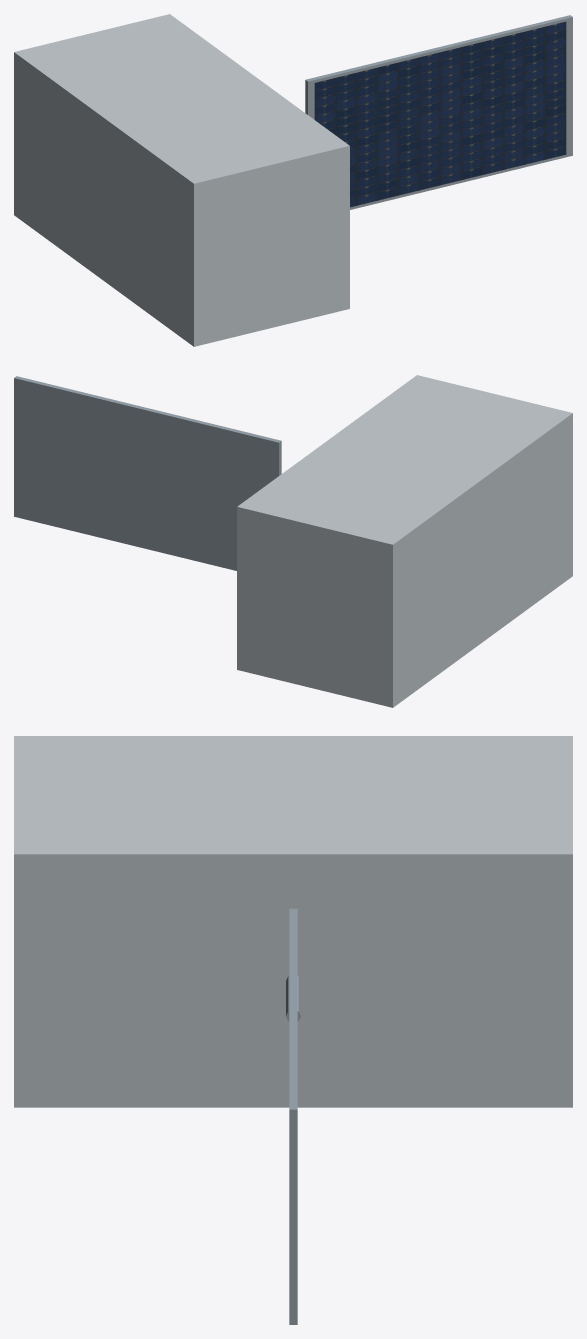
File: ref-sdgsat-49387.glb
3 renders of one model, top to bottom at view 1: azimuth 30°, elevation 25°; view 2: azimuth 150°, elevation 25°; view 3: azimuth 270°, elevation 25°, orthographic. The views are drawn at different scales.
Parts seen in each view (by area): view 1: Spacecraft body, Photovoltaic laminates, Array frame; view 2: Spacecraft body, Array frame; view 3: Spacecraft body, Array frame.
Boxes of the visible parts, x1,y1,x2,y2 form: Spacecraft body: (14,14,349,346); Photovoltaic laminates: (314,21,566,207); Array frame: (305,15,572,209); Spacecraft body: (237,375,572,707); Array frame: (14,376,281,570); Spacecraft body: (14,736,572,1107); Array frame: (289,908,297,1324).
Bounding box in the file's own units: 3 × 1 × 2.
Materials: 3 (1 with a texture image).
